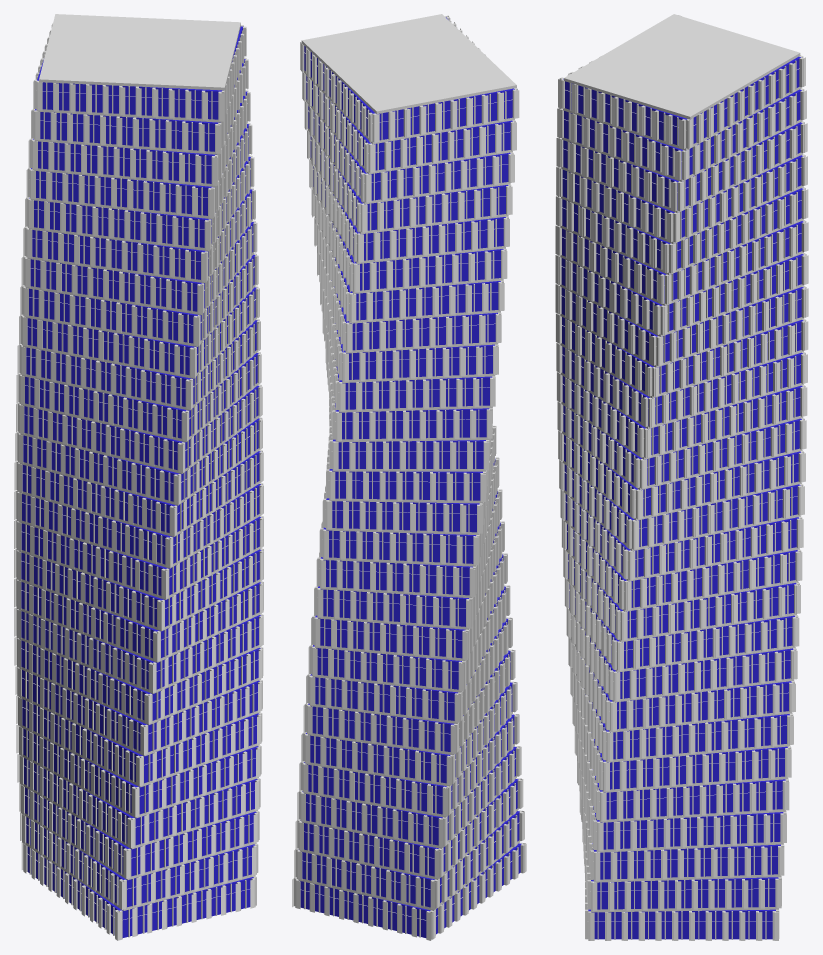
The model's file is InfinityTower.py.glb.
3 views of the same model, side by side, from view 1: azimuth 30°, elevation 25°; view 2: azimuth 150°, elevation 25°; view 3: azimuth 270°, elevation 25° (orthographic).
Parts seen in each view (by area): view 1: ShorterCube.026, Cube.008, Cube.007, Cube.009, Cube.011, Cube.006, Cube.005, Cube.004, Cube.010, Cube.012, Cube.014, Cube.015 (+42 smaller); view 2: ShorterCube.026, Cube, Cube.001, Cube.002, Cube.003, Cube.004, Cube.005, Cube.024, Cube.014, Cube.026, Cube.006, Cube.011 (+22 smaller); view 3: ShorterCube.026, Cube, Cube.001, Cube.013, Cube.002, Cube.003, Cube.004, Cube.012, Cube.010, Cube.015, Cube.016, Cube.006 (+41 smaller).
Boxes of the visible parts, left/top/right/bottom form: ShorterCube.026: left=39, top=14, right=240, bottom=90; Cube.008: left=21, top=611, right=260, bottom=689; Cube.007: left=21, top=640, right=260, bottom=720; Cube.009: left=21, top=582, right=260, bottom=658; Cube.011: left=21, top=516, right=260, bottom=595; Cube.006: left=22, top=670, right=259, bottom=751; Cube.005: left=22, top=699, right=259, bottom=783; Cube.004: left=23, top=728, right=258, bottom=814; Cube.010: left=21, top=549, right=261, bottom=626; Cube.012: left=22, top=484, right=260, bottom=564; Cube.014: left=23, top=418, right=259, bottom=501; Cube.015: left=24, top=385, right=259, bottom=469; ShorterCube.026: left=301, top=14, right=516, bottom=113; Cube: left=300, top=843, right=521, bottom=937; Cube.001: left=302, top=811, right=519, bottom=907; Cube.002: left=304, top=779, right=518, bottom=876; Cube.003: left=302, top=746, right=516, bottom=845; Cube.004: left=304, top=714, right=514, bottom=814; Cube.005: left=306, top=682, right=512, bottom=783; Cube.024: left=308, top=106, right=510, bottom=200; Cube.014: left=329, top=469, right=482, bottom=500; Cube.026: left=304, top=17, right=514, bottom=140; Cube.006: left=308, top=650, right=510, bottom=751; Cube.011: left=320, top=491, right=497, bottom=595; ShorterCube.026: left=564, top=14, right=800, bottom=119; Cube: left=588, top=909, right=775, bottom=939; Cube.001: left=591, top=877, right=778, bottom=909; Cube.013: left=564, top=464, right=800, bottom=546; Cube.002: left=592, top=843, right=780, bottom=879; Cube.003: left=593, top=806, right=783, bottom=849; Cube.004: left=589, top=761, right=785, bottom=819; Cube.012: left=565, top=494, right=798, bottom=577; Cube.010: left=568, top=554, right=796, bottom=638; Cube.015: left=563, top=405, right=801, bottom=485; Cube.016: left=562, top=376, right=802, bottom=454; Cube.006: left=585, top=694, right=789, bottom=759.
Bounding box in the file's own units: 80.33 × 297 × 81.14.
